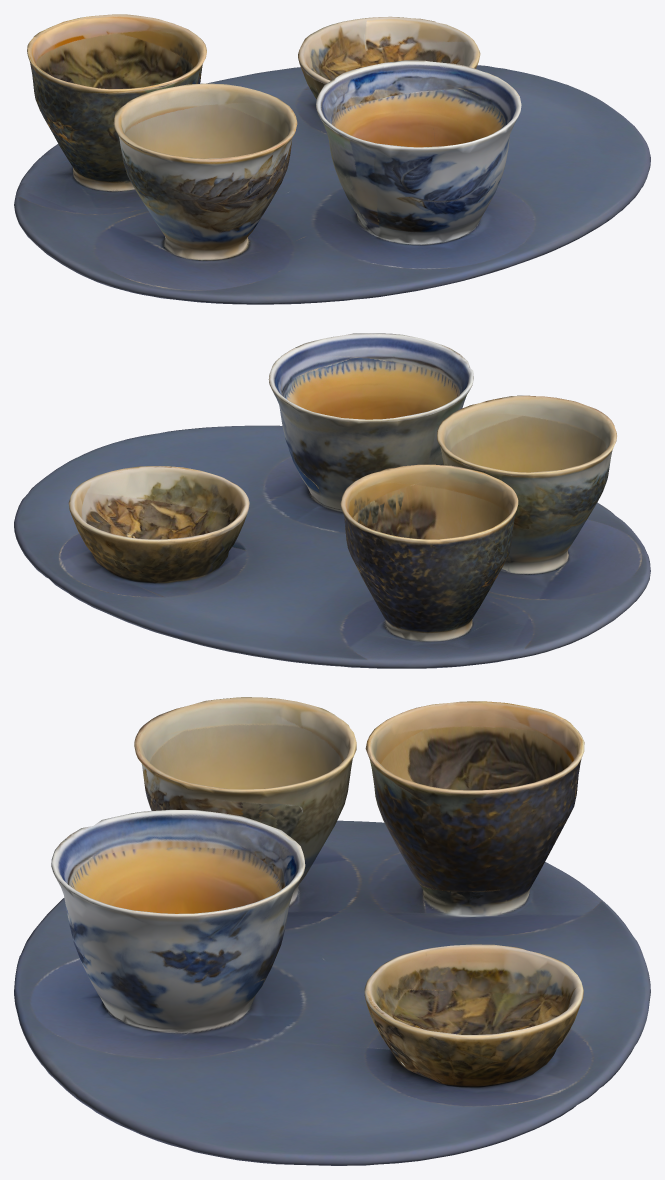
Rendered from tea.glb.
3 renders of one model, top to bottom at view 1: azimuth 30°, elevation 25°; view 2: azimuth 150°, elevation 25°; view 3: azimuth 270°, elevation 25°, orthographic. The views are drawn at different scales.
Bounding box in the file's own units: 2 × 0.4424 × 1.59.
1 material, 1 textured.
